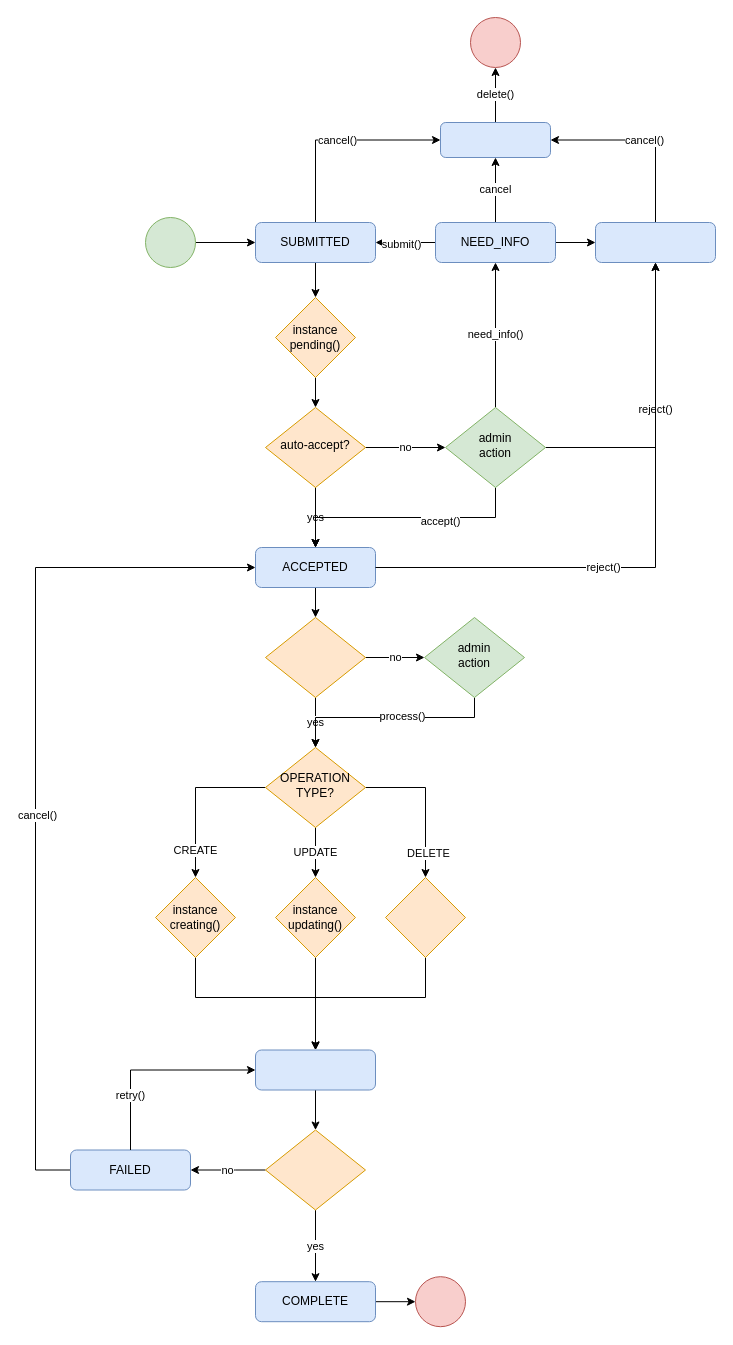
Image size: 733x1345. Some labels were removed from this diagram. The shapes that lost their labels are listed below. From the top down, each one's centre as x and y in pixels, then its label:
At [495,140]: "CANCELED".
At [655,242]: "REJECTED".
At [315,657]: "auto-process?".
At [425,917]: "instance deleting()".
At [315,1069]: "PROCESSING".
At [315,1169]: "processing ok?".
